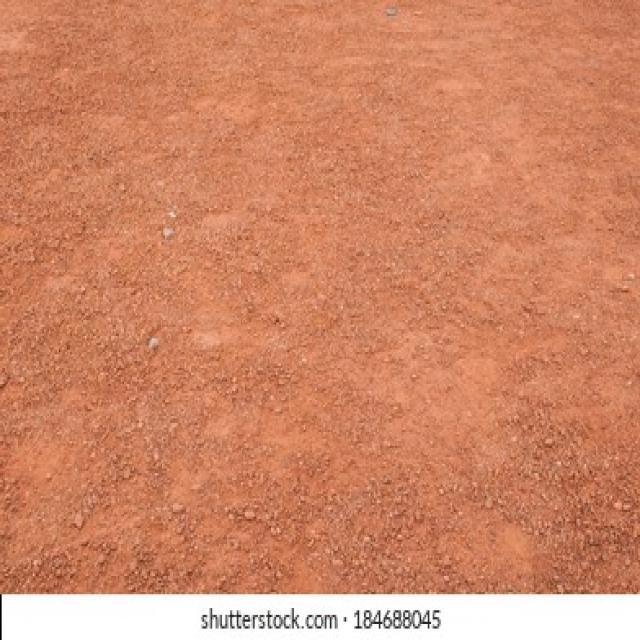Red Soil: (73, 100, 596, 549)
